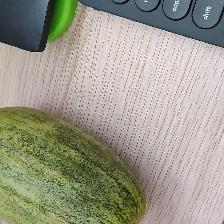gua: (11, 124, 112, 214)
